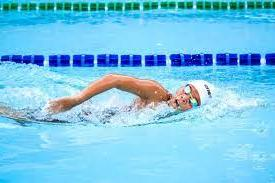Swimming: (16, 49, 240, 144)
